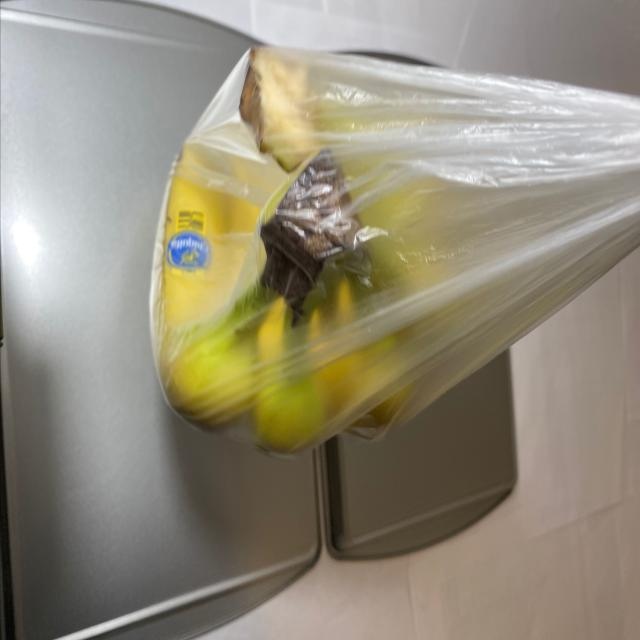banana: (150, 41, 446, 460)
